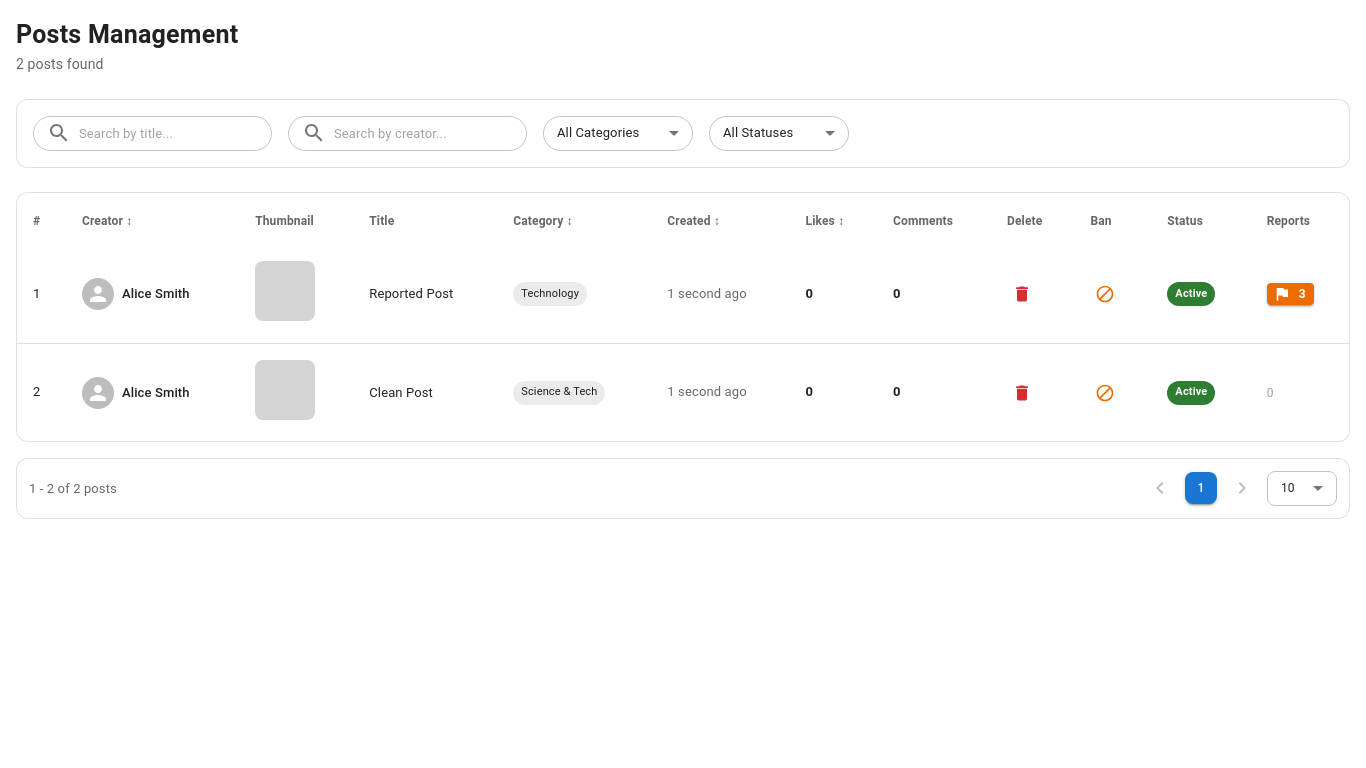
Test: AdminCardsPanel — Reports column › shows reporter name, reason chip and timestamp in the modal
Click the button named "view 3 reporters" at (1290, 294), box x1=1267 y1=283 x2=1314 y2=305
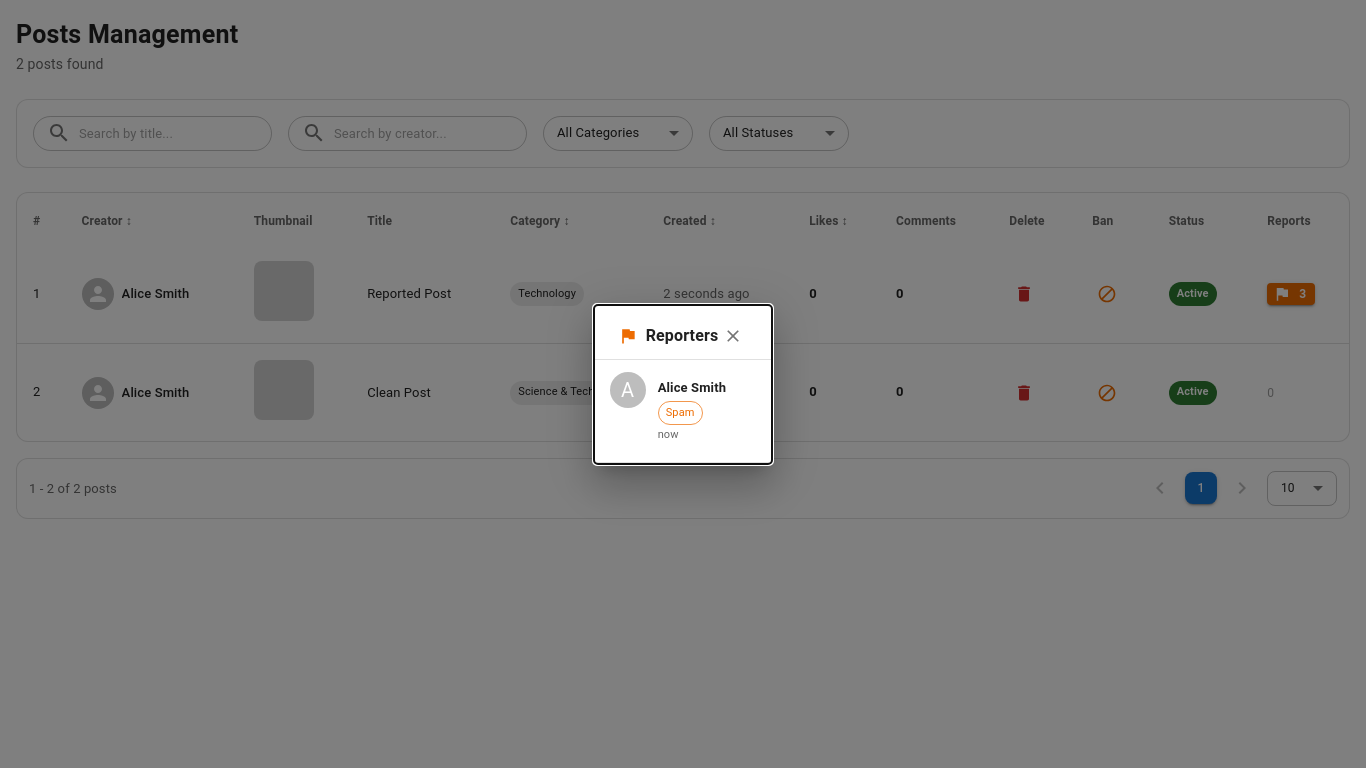
expect the text "Alice Smith" in the row of "Reported Post" is shown: met, box x1=122 y1=284 x2=189 y2=304
expect the text "Spam" is shown: met, box x1=666 y1=406 x2=695 y2=419
